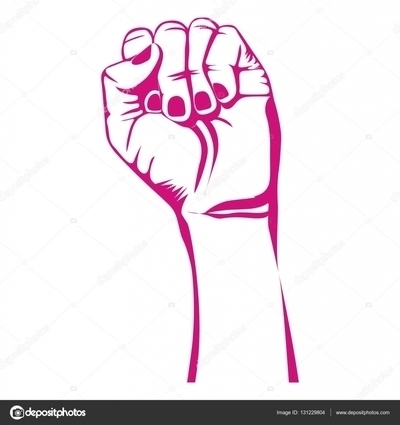closedhandfront: (81, 18, 289, 219)
